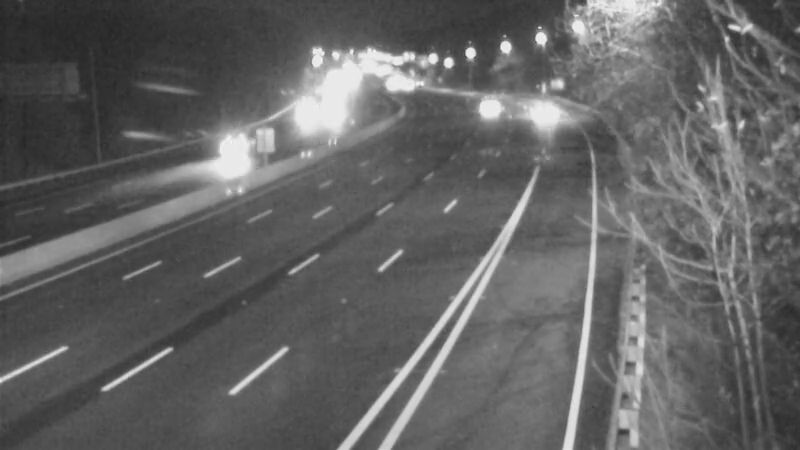vehicle: (177, 120, 257, 200), (518, 89, 568, 139), (464, 81, 514, 131), (267, 92, 317, 142)
